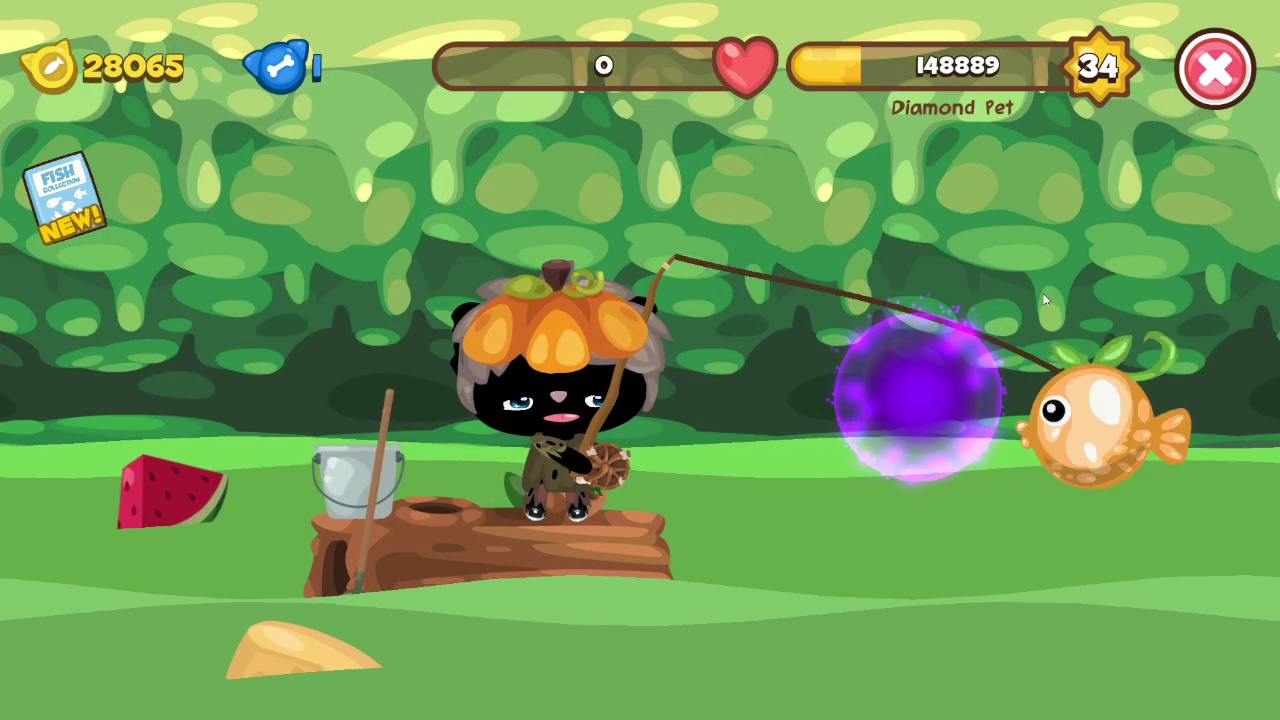point: (832, 312, 1005, 483)
